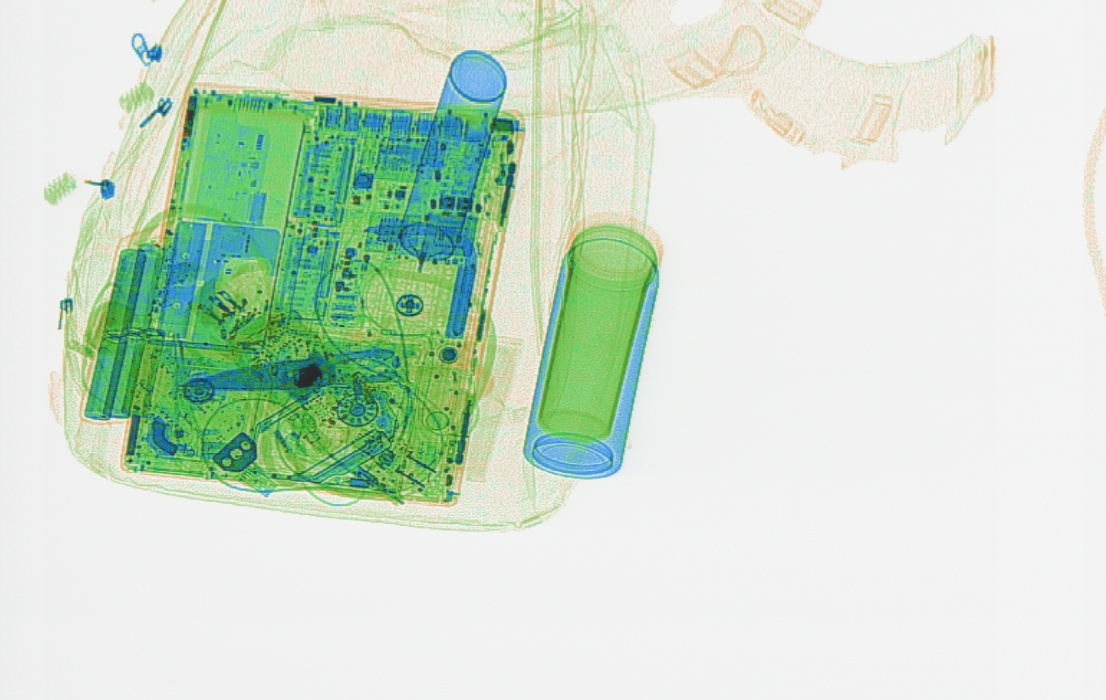powerbank: (78, 222, 186, 425)
pressure: (396, 49, 507, 271)
scissors: (176, 319, 449, 422)
